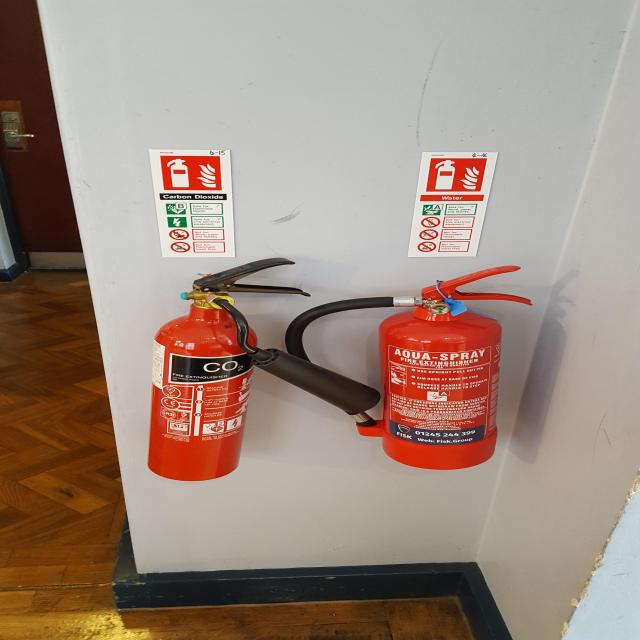fire_extinguisher: (136, 254, 387, 485), (281, 263, 535, 474)
